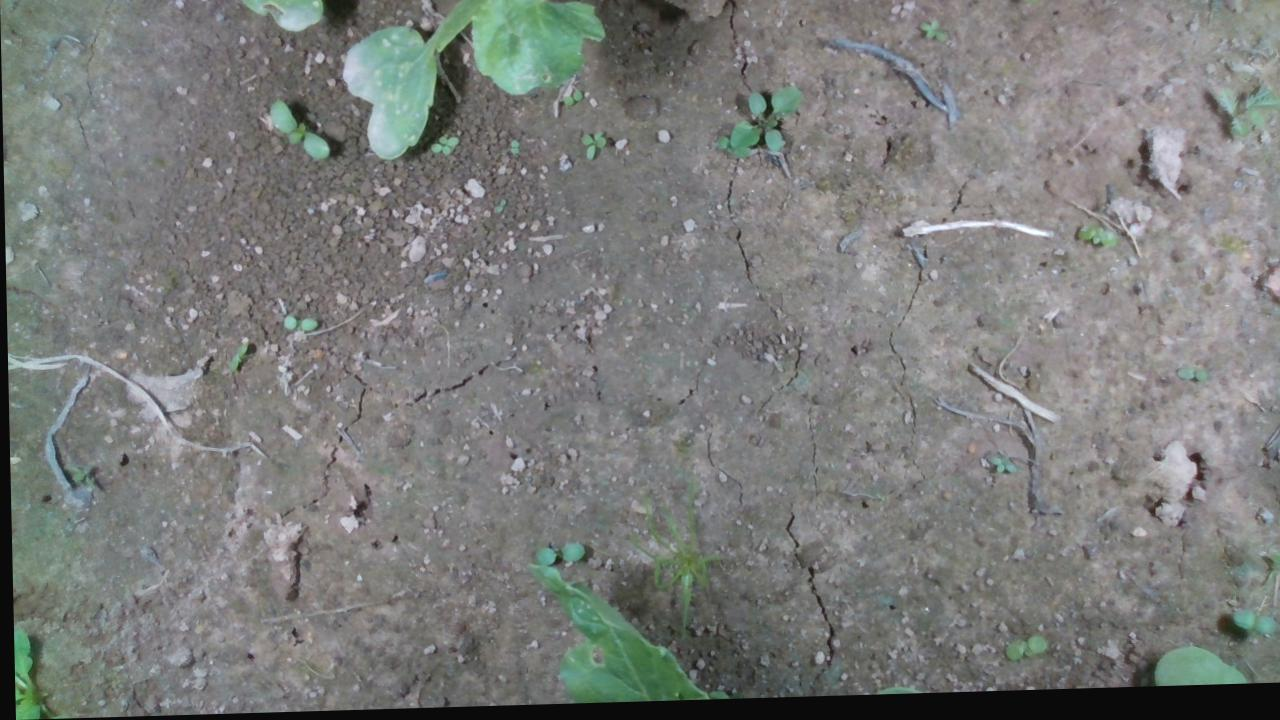weed: (267, 97, 329, 164), (1227, 615, 1275, 644), (530, 545, 582, 568), (1074, 228, 1118, 255), (1000, 640, 1044, 666), (580, 133, 606, 164), (918, 23, 947, 50), (430, 134, 458, 158), (227, 340, 246, 373), (279, 316, 316, 332), (1173, 374, 1205, 389), (560, 92, 581, 108), (508, 140, 519, 157)
